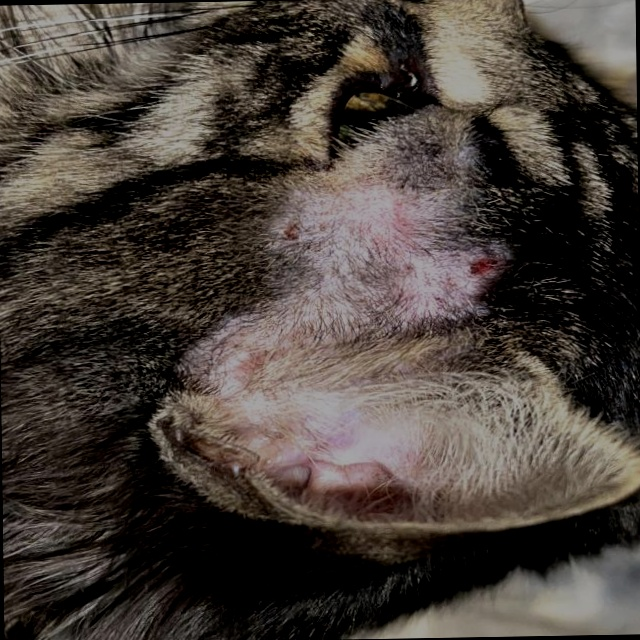ringworm: (284, 185, 500, 334)
